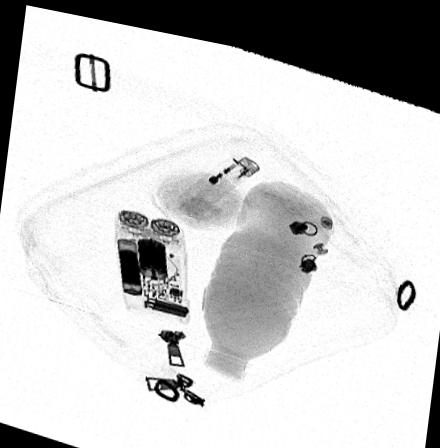Lighter: (176, 142, 260, 213)
